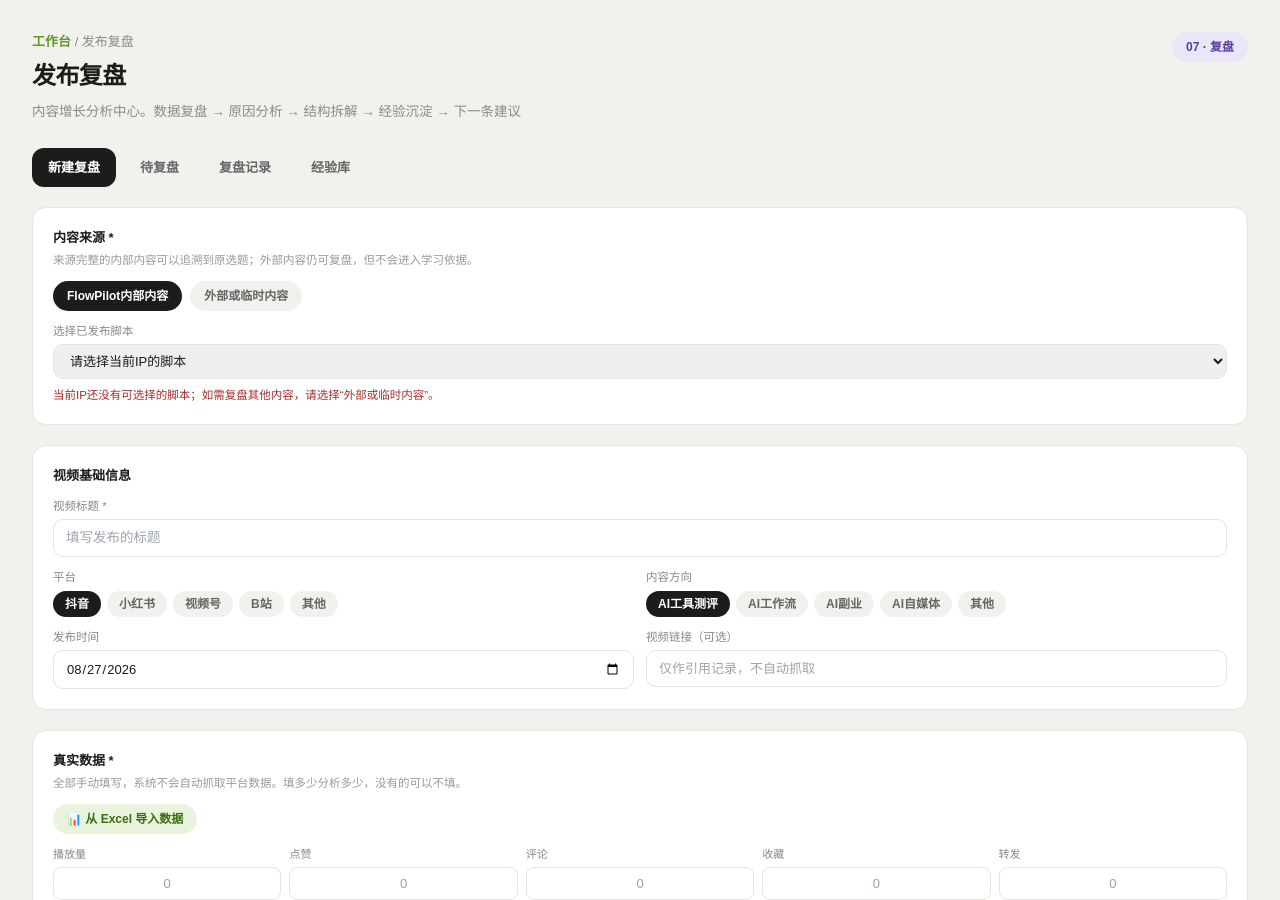
Test case: 经验库只展示当前IP且只读取复盘经验库分类
Click the button "经验库": (330,167) [295,148,366,187]
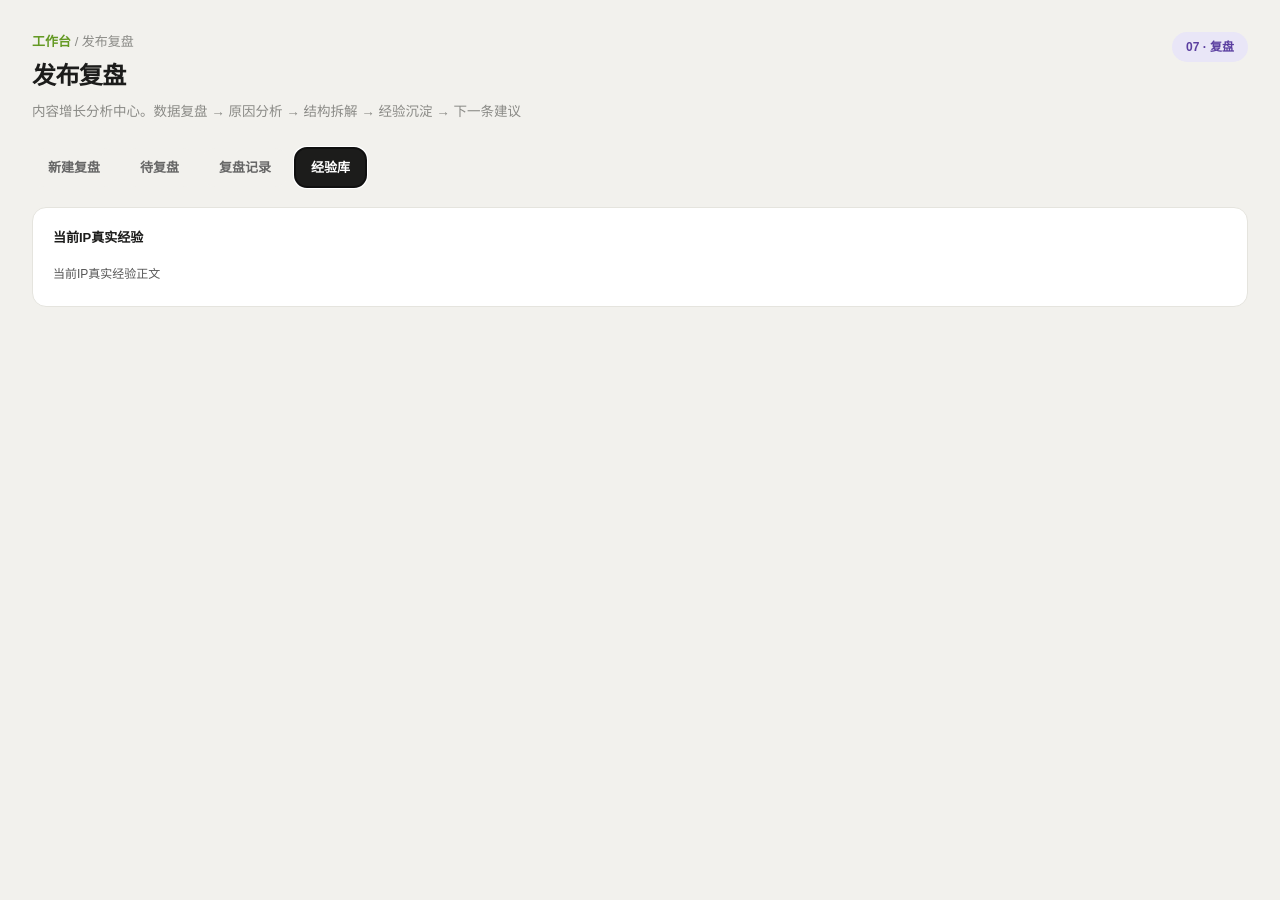
Check: the text "当前IP真实经验" is shown, box [53,230,143,245]
